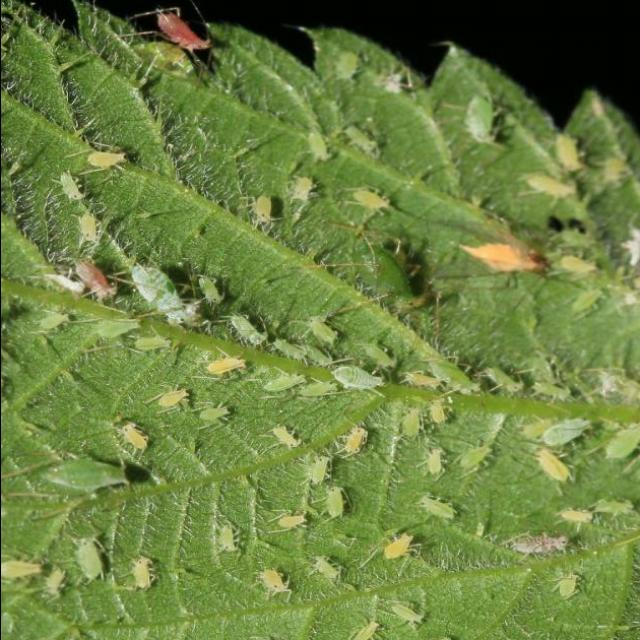Aphids: (23, 248, 292, 375), (404, 339, 530, 484), (0, 526, 174, 620), (504, 490, 640, 600), (534, 350, 640, 482), (255, 309, 394, 405), (50, 126, 150, 250), (203, 495, 310, 603), (108, 381, 240, 453), (302, 412, 386, 522), (339, 225, 442, 311), (114, 0, 212, 77), (448, 212, 548, 284), (36, 450, 142, 516), (240, 168, 332, 232), (456, 76, 519, 152), (329, 598, 432, 640), (296, 115, 384, 163), (374, 525, 433, 571), (307, 538, 357, 590), (409, 491, 480, 526), (343, 180, 401, 222), (267, 416, 309, 451)
